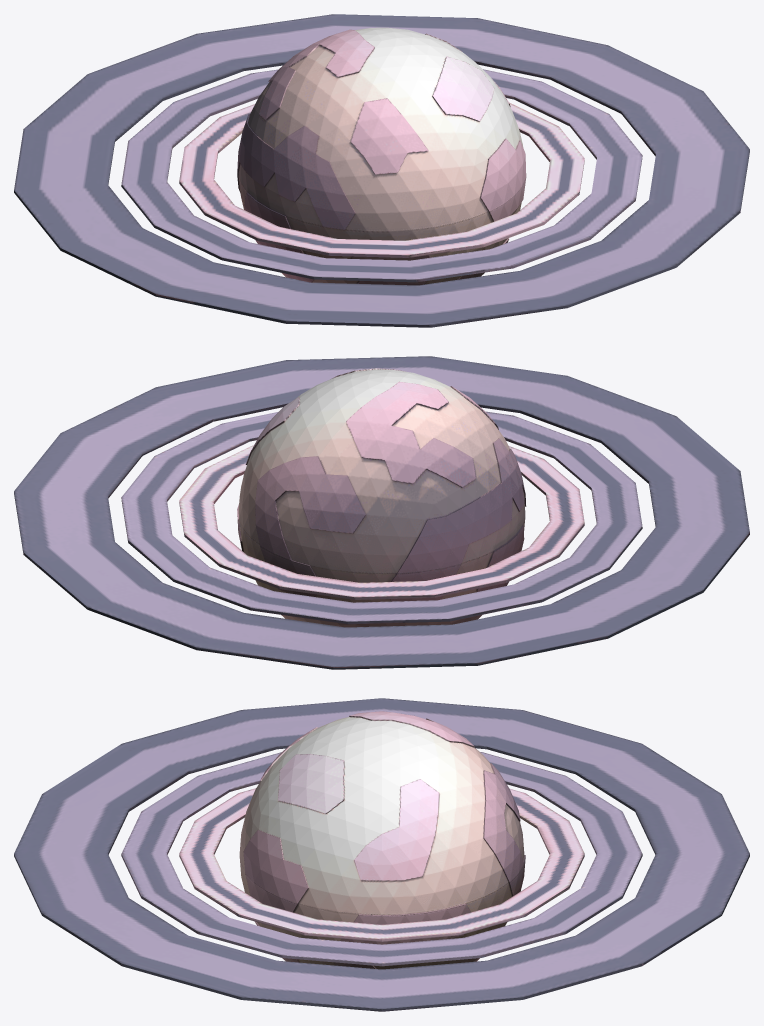
File: saturno.obj
3 views of the same model, one above another, from view 1: azimuth 30°, elevation 25°; view 2: azimuth 150°, elevation 25°; view 3: azimuth 270°, elevation 25° (orthographic).
Parts seen in each view (by area): view 1: Icosphere; view 2: Icosphere; view 3: Icosphere.
Part boxes in pixels (x1=…): Icosphere: x1=14, y1=14, x2=749, y2=327; Icosphere: x1=14, y1=356, x2=749, y2=669; Icosphere: x1=14, y1=698, x2=749, y2=1011.
Size of the model in its own units: 5.17 by 2.01 by 5.17.
Materials: 1 (1 with a texture image).
